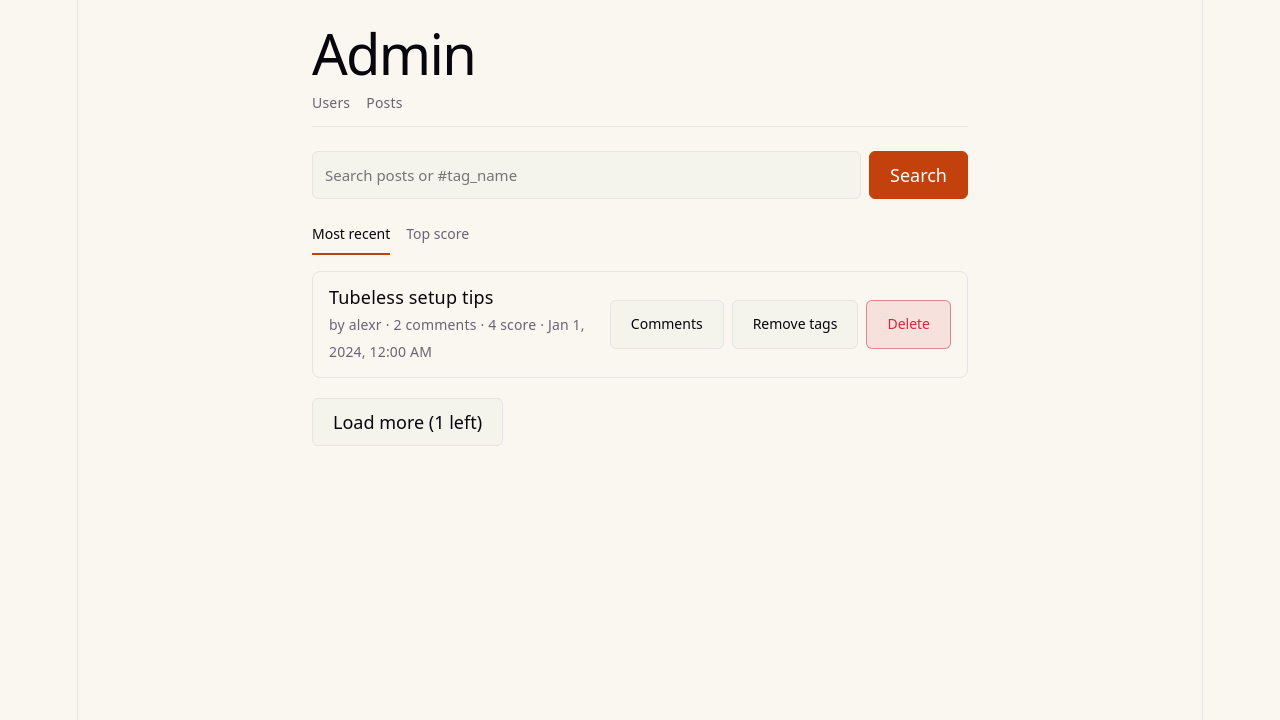
Test: AdminPosts › shows a "Load more" button and fetches the next page
expect the link "Tubeless setup tips" is shown: met, box [329,285,494,309]
Click the button "Load more (1 left)" at (408, 422), box [312,398,503,446]
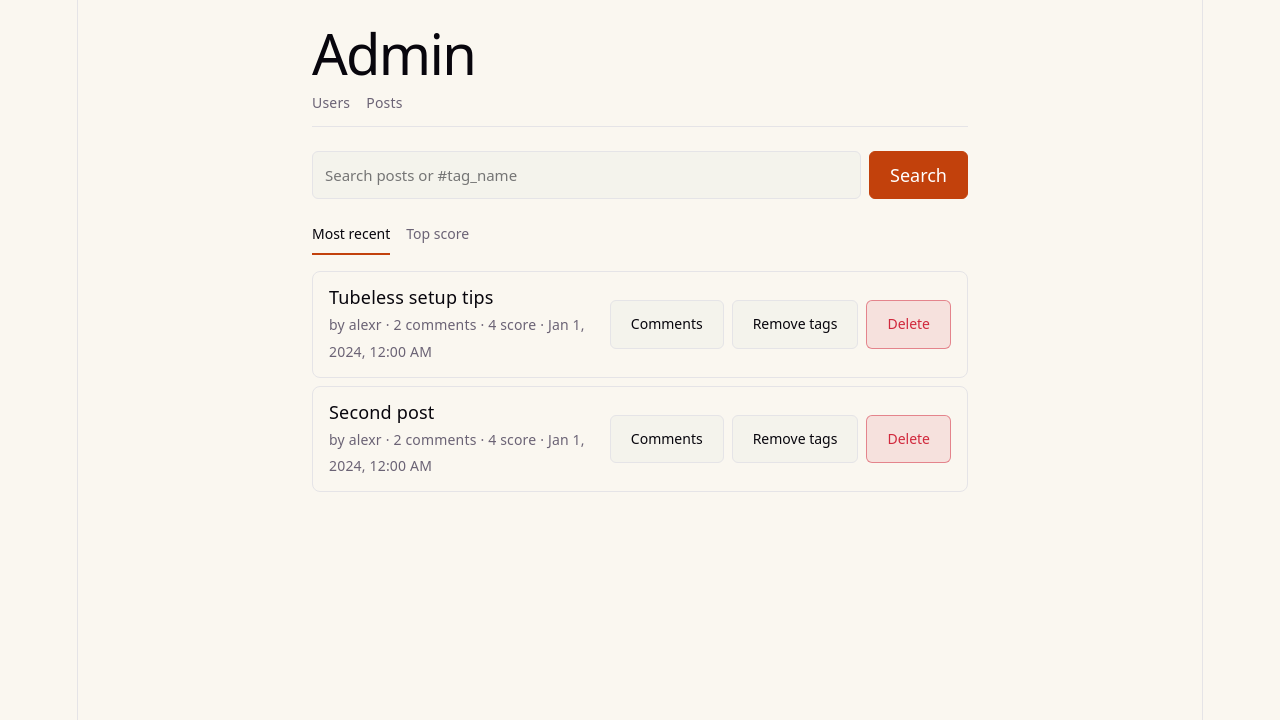
expect the link "Second post" is shown: met, box [329,400,434,424]
